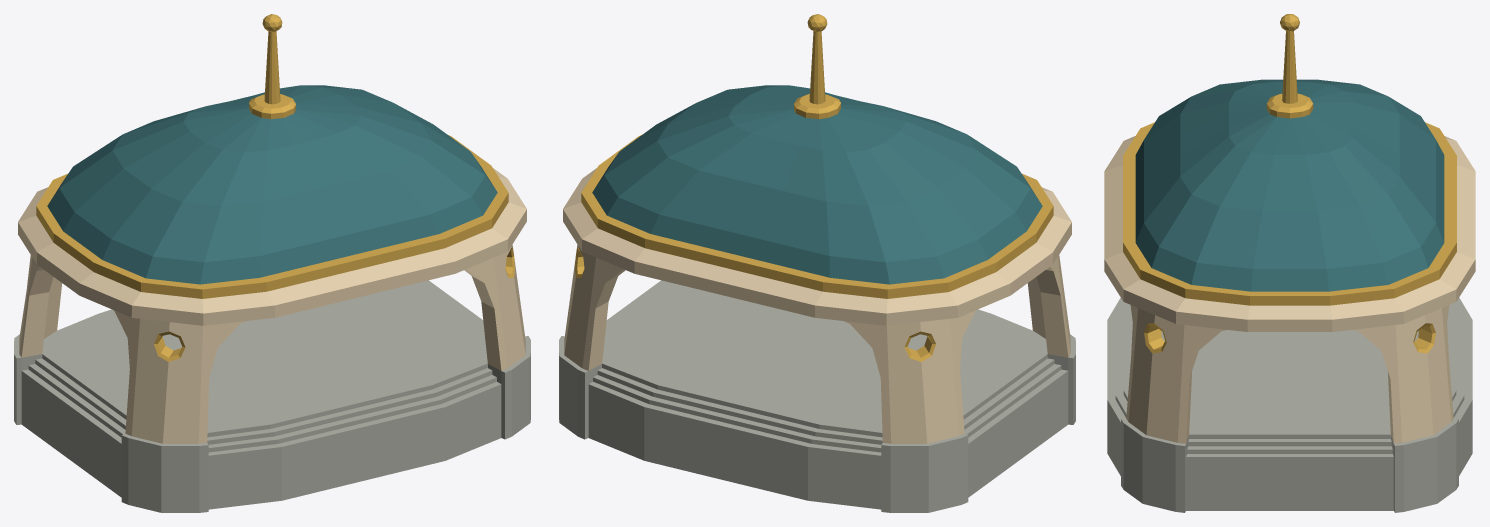
3 views of the same model, side by side, from view 1: azimuth 30°, elevation 25°; view 2: azimuth 150°, elevation 25°; view 3: azimuth 270°, elevation 25° (orthographic).
Parts seen in each view (by area): view 1: commons; view 2: commons; view 3: commons.
Part boxes in pixels (box(x1,y1,x2,y2)): commons: box(14, 14, 530, 512); commons: box(559, 14, 1075, 512); commons: box(1104, 14, 1475, 512).
Bounding box in the file's own units: 12.38 × 11.01 × 9.28.
1 material, 1 textured.
